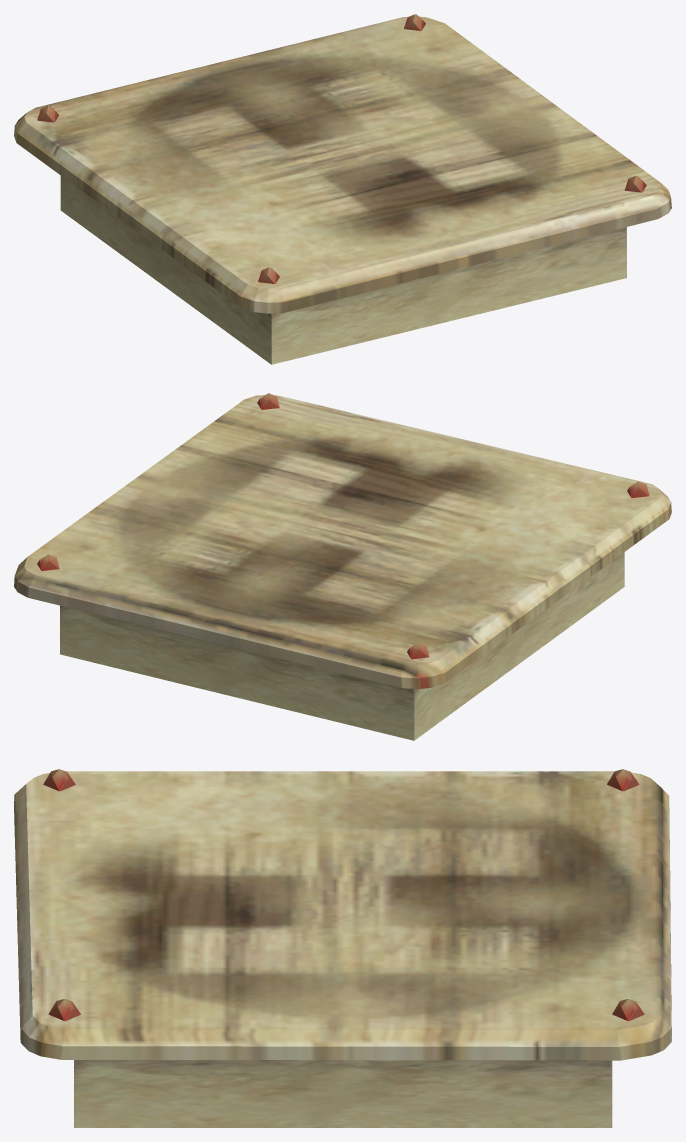
The model's file is C3SMHeliP_H.obj.
3 views of the same model, one above another, from view 1: azimuth 30°, elevation 25°; view 2: azimuth 150°, elevation 25°; view 3: azimuth 270°, elevation 25° (orthographic). The views are drawn at different scales.
Visible parts, largest first — view 1: Node 0; view 2: Node 0; view 3: Node 0.
Boxes of the visible parts, bbox=[...] form: Node 0: bbox=[14, 14, 671, 364]; Node 0: bbox=[14, 393, 671, 740]; Node 0: bbox=[14, 769, 671, 1127].
Size of the model in its own units: 19.35 by 4.44 by 20.
2 materials, 2 textured.
